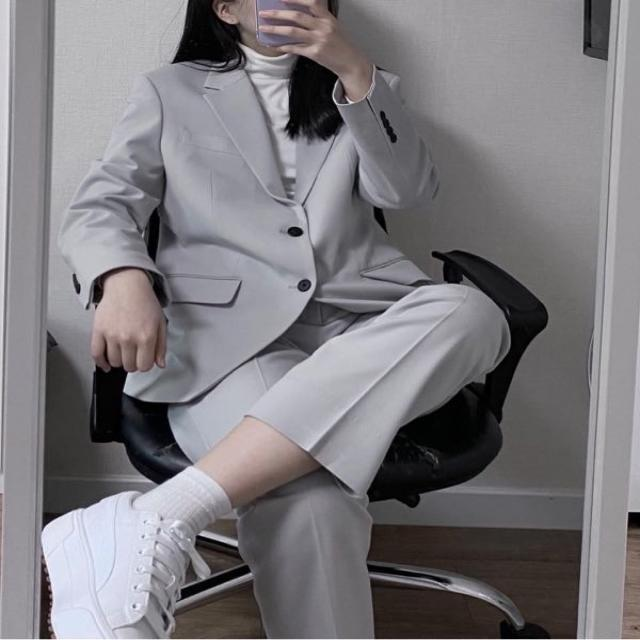blazer: (54, 43, 448, 402)
slacks: (157, 251, 516, 640)
